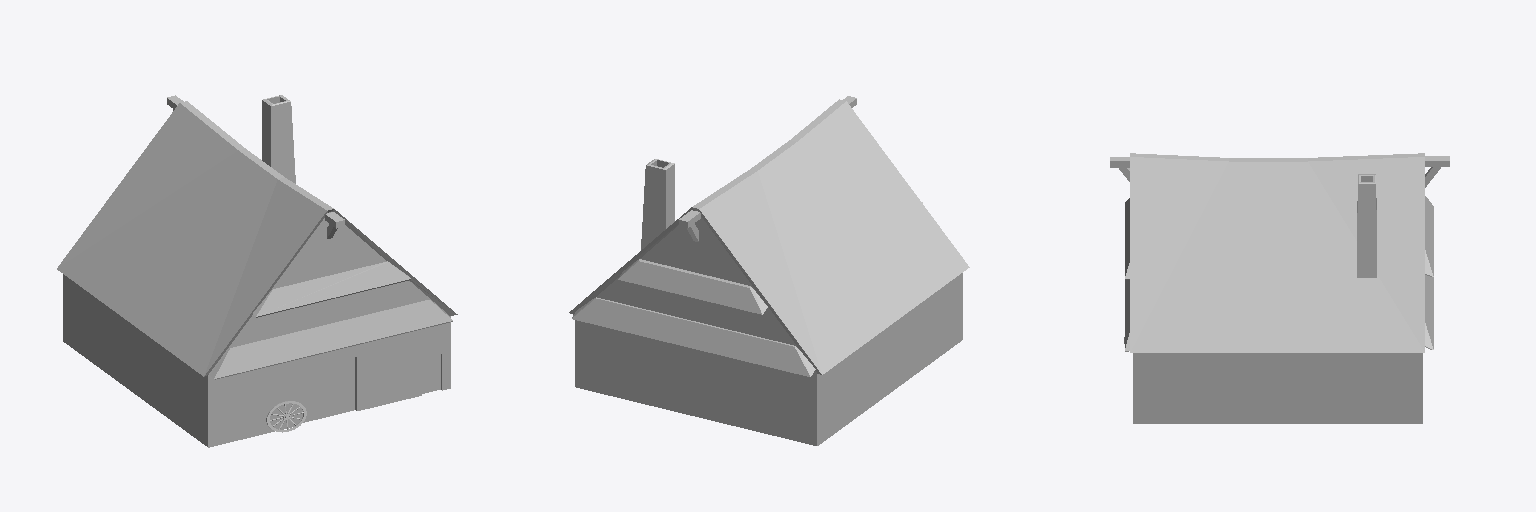
The model's file is casern.obj.
3 views of the same model, side by side, from view 1: azimuth 30°, elevation 25°; view 2: azimuth 150°, elevation 25°; view 3: azimuth 270°, elevation 25° (orthographic).
Visible parts, largest first — view 1: scheune; view 2: scheune; view 3: scheune.
Part boxes in pixels (left/top/right/bottom): scheune: left=57, top=95, right=457, bottom=447; scheune: left=569, top=96, right=969, bottom=445; scheune: left=1110, top=153, right=1449, bottom=423.
Bounding box in the file's own units: 15.92 × 13.01 × 18.43.